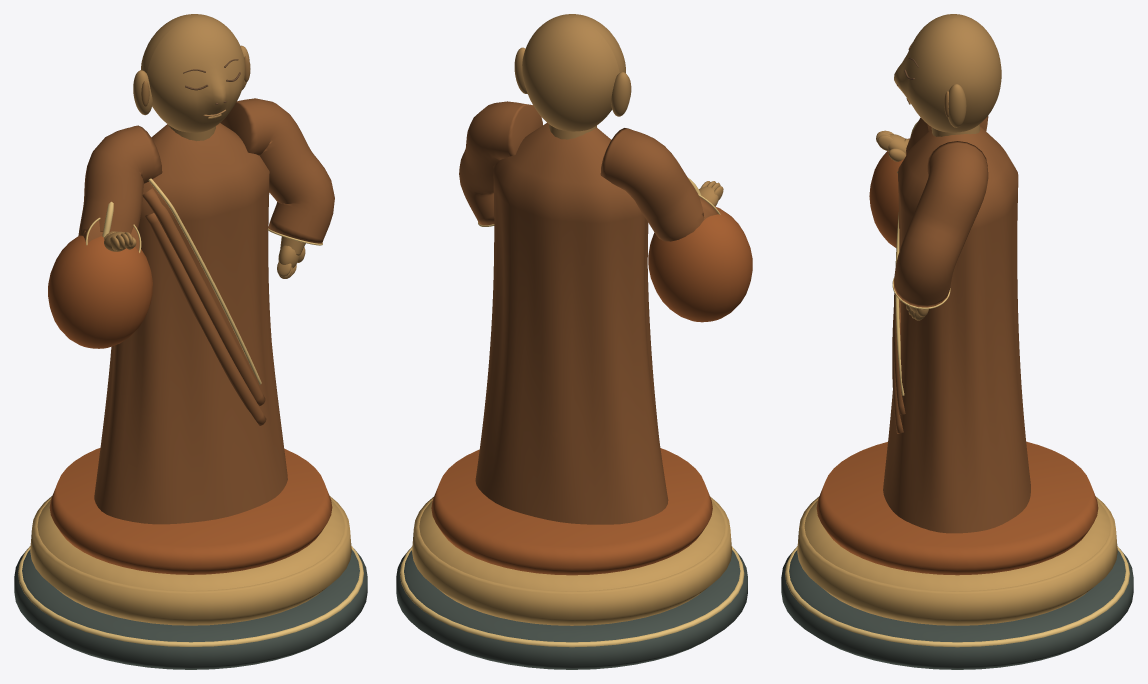
Rendered from arhat_16.glb.
3 renders of one model, left to right at view 1: azimuth 30°, elevation 25°; view 2: azimuth 150°, elevation 25°; view 3: azimuth 270°, elevation 25°, orthographic.
Visible parts, largest first — view 1: arhat_16_ArhatDrapery, arhat_16_SaffronDrapery, arhat_16_AntiqueGold, arhat_16_CarvedPlinth, arhat_16_WarmBronze, arhat_16_RaisedGoldBorders; view 2: arhat_16_ArhatDrapery, arhat_16_SaffronDrapery, arhat_16_AntiqueGold, arhat_16_CarvedPlinth, arhat_16_WarmBronze, arhat_16_RaisedGoldBorders; view 3: arhat_16_ArhatDrapery, arhat_16_SaffronDrapery, arhat_16_AntiqueGold, arhat_16_CarvedPlinth, arhat_16_WarmBronze, arhat_16_RaisedGoldBorders.
Part boxes in pixels (box(x1,y1,x2,y2)): arhat_16_ArhatDrapery: box(78, 98, 334, 524); arhat_16_SaffronDrapery: box(48, 235, 332, 574); arhat_16_AntiqueGold: box(30, 496, 351, 625); arhat_16_CarvedPlinth: box(14, 549, 367, 669); arhat_16_WarmBronze: box(104, 14, 305, 278); arhat_16_RaisedGoldBorders: box(18, 178, 363, 646); arhat_16_ArhatDrapery: box(459, 101, 718, 524); arhat_16_SaffronDrapery: box(431, 206, 752, 575); arhat_16_AntiqueGold: box(412, 496, 732, 625); arhat_16_CarvedPlinth: box(396, 549, 747, 669); arhat_16_WarmBronze: box(514, 14, 723, 206); arhat_16_RaisedGoldBorders: box(400, 178, 744, 647); arhat_16_ArhatDrapery: box(883, 116, 1030, 533); arhat_16_SaffronDrapery: box(816, 138, 1098, 575); arhat_16_AntiqueGold: box(797, 496, 1117, 625); arhat_16_CarvedPlinth: box(781, 549, 1133, 669); arhat_16_WarmBronze: box(876, 14, 1001, 320); arhat_16_RaisedGoldBorders: box(785, 122, 1129, 647).
Size of the model in its own units: 0.9291 by 1.68 by 0.92.
